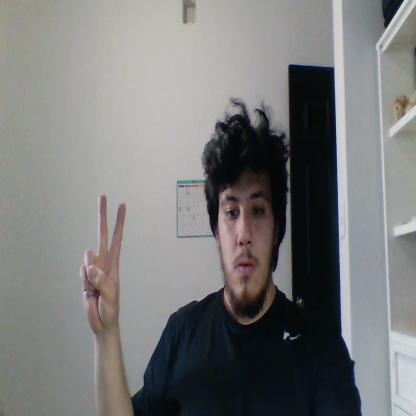V: (80, 193, 126, 332)
